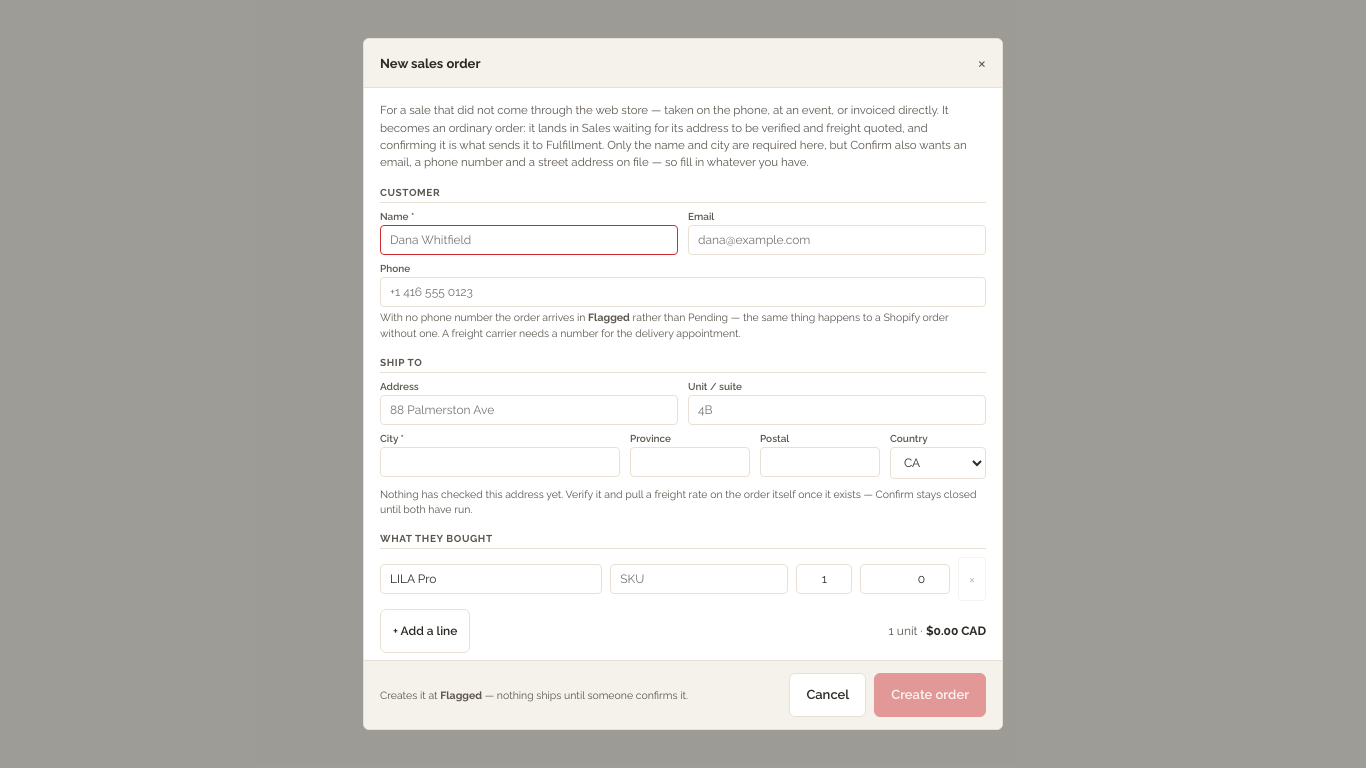
Test: NewOrderForm › switches currency with the destination country
Replace the text in the number field named "Line 1 unit price" with "100" at (905, 579), box [860,564,950,594]
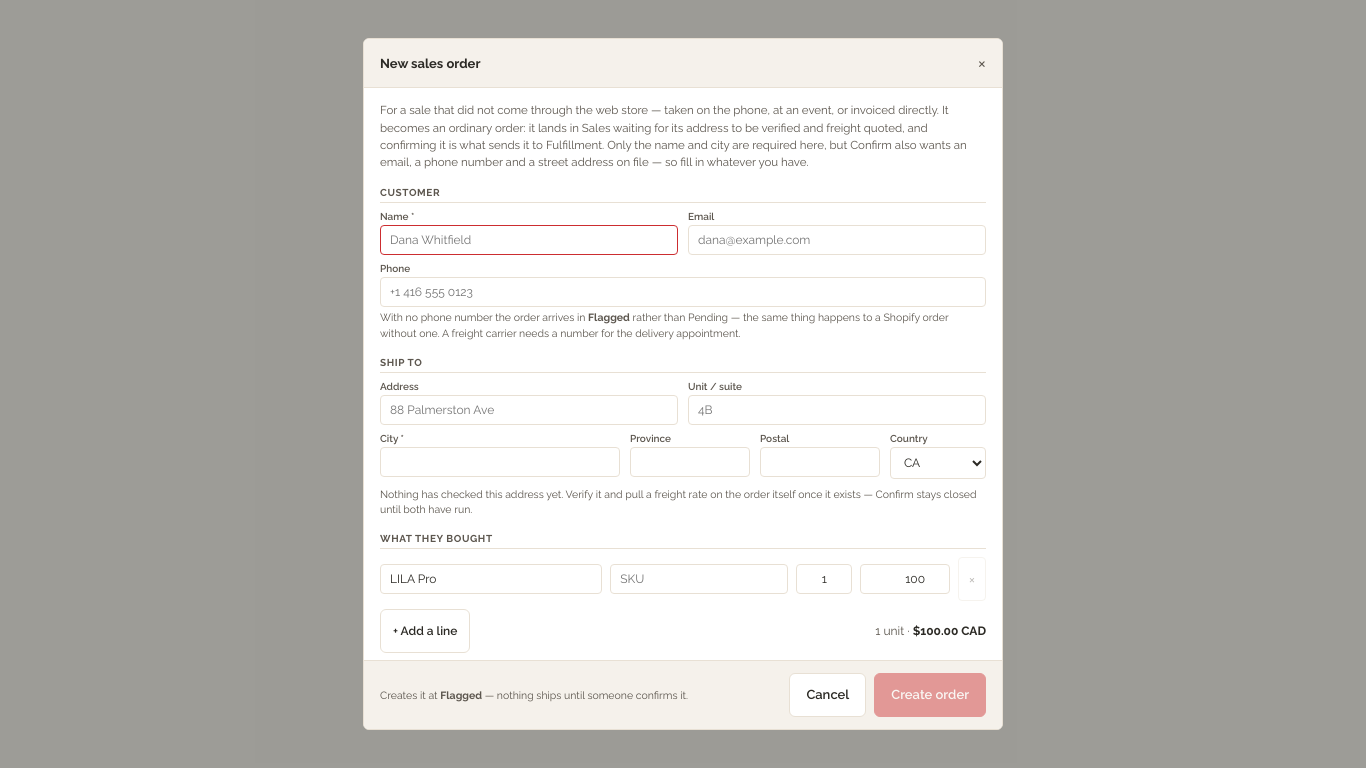
Check: the text "$100.00 CAD" is shown, box [913,624,986,638]
Select "US" in the dropdown labelled "Country" at (938, 463), box [890,447,986,479]
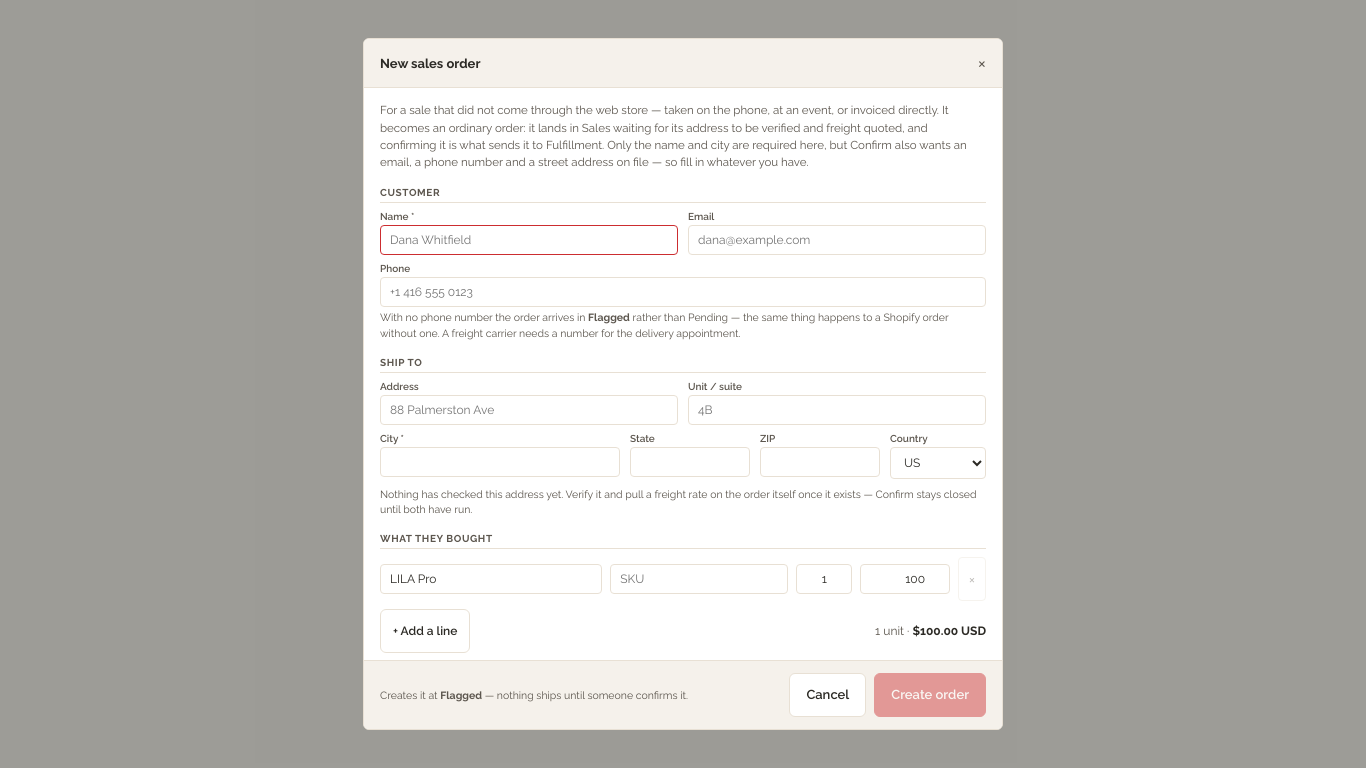
Check: the text "$100.00 USD" is shown, box [912,624,986,638]
